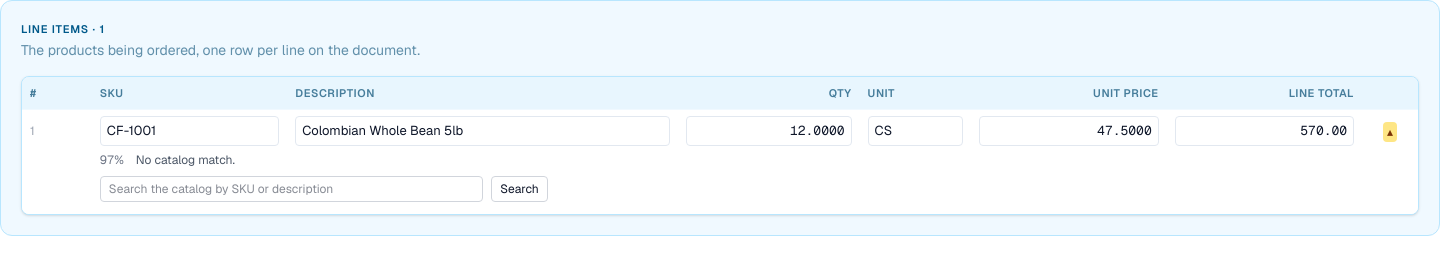
Test case: line items (Section 7.6) › the arrow really opens and closes a line's details, even one that needs a look
Expected: the text "No catalog match." is shown, [136, 152, 235, 168]
Click the button "▴".
click(1390, 132)  # box [1383, 122, 1397, 142]
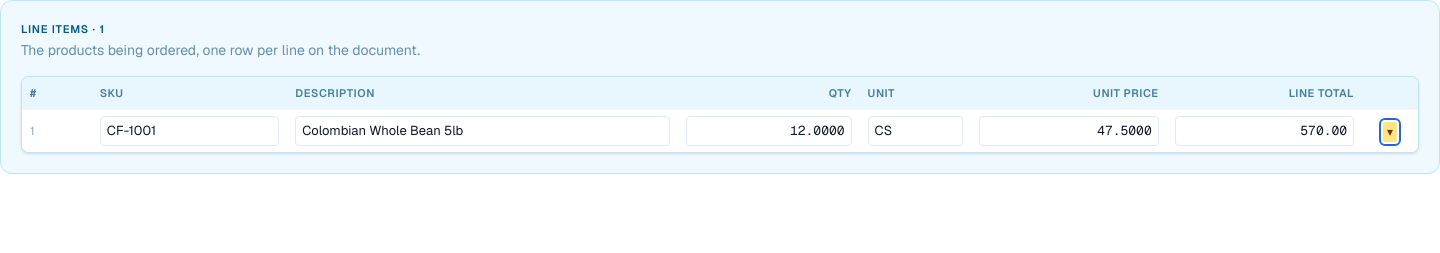
Now the text "No catalog match" is gone
Now the button "▾" is collapsed
Click the button "▾".
click(1390, 132)  # box [1383, 122, 1397, 142]
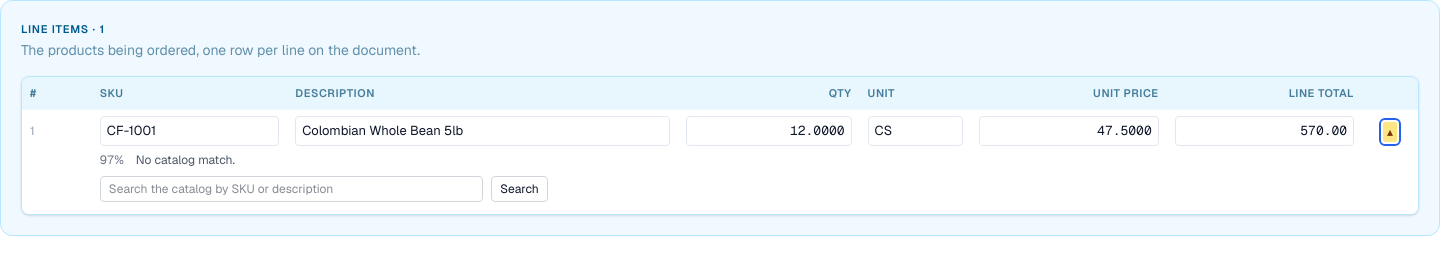
Now the text "No catalog match." is shown, box [136, 152, 235, 168]
